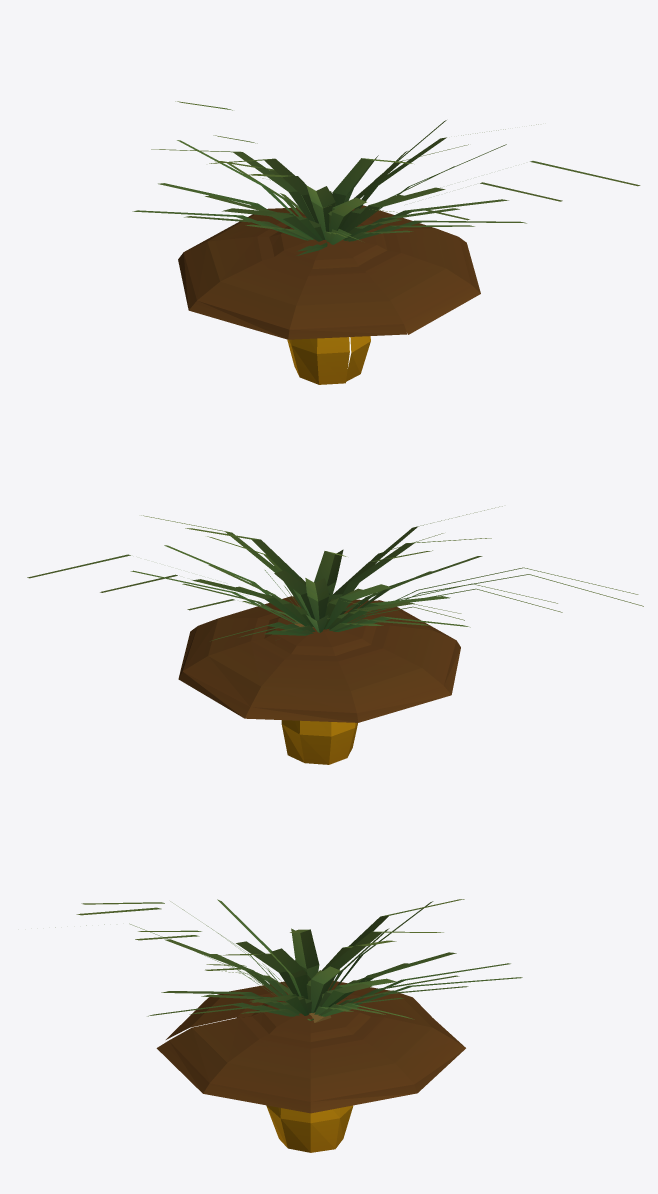
File: pineapple.glb
3 views of the same model, one above another, from view 1: azimuth 30°, elevation 25°; view 2: azimuth 150°, elevation 25°; view 3: azimuth 270°, elevation 25° (orthographic). The views are drawn at different scales.
Parts seen in each view (by area): view 1: stage2_soil, stage4_leaf, fruit_fruitMatte, stage0_soil, stage4_l1_leaf, stage3_leaf, stage3_l1_leaf, stage2_leaf; view 2: stage2_soil, stage4_leaf, stage4_l1_leaf, fruit_fruitMatte, stage0_soil, stage3_leaf, stage3_l1_leaf, stage2_leaf; view 3: stage2_soil, stage4_leaf, fruit_fruitMatte, stage0_soil, stage4_l1_leaf, stage3_leaf, stage3_l1_leaf, stage2_leaf.
Part boxes in pixels (bbox=[...]): stage2_soil: bbox=[178, 205, 480, 339]; stage4_leaf: bbox=[132, 101, 640, 255]; fruit_fruitMatte: bbox=[287, 336, 370, 384]; stage0_soil: bbox=[269, 224, 387, 268]; stage4_l1_leaf: bbox=[158, 120, 583, 251]; stage3_leaf: bbox=[184, 135, 474, 249]; stage3_l1_leaf: bbox=[205, 151, 562, 247]; stage2_leaf: bbox=[245, 178, 449, 247]; stage2_soil: bbox=[178, 596, 460, 722]; stage4_leaf: bbox=[27, 515, 643, 635]; stage4_l1_leaf: bbox=[29, 506, 638, 641]; fruit_fruitMatte: bbox=[281, 720, 357, 764]; stage0_soil: bbox=[264, 611, 376, 655]; stage3_leaf: bbox=[102, 536, 562, 634]; stage3_l1_leaf: bbox=[100, 533, 557, 637]; stage2_leaf: bbox=[213, 593, 464, 633]; stage2_soil: bbox=[156, 980, 465, 1113]; stage4_leaf: bbox=[55, 899, 522, 1019]; fruit_fruitMatte: bbox=[266, 1105, 353, 1152]; stage0_soil: bbox=[237, 998, 370, 1041]; stage4_l1_leaf: bbox=[81, 899, 510, 1009]; stage3_leaf: bbox=[135, 928, 468, 1016]; stage3_l1_leaf: bbox=[138, 930, 459, 1014]; stage2_leaf: bbox=[205, 968, 403, 1015].
Size of the model in its own units: 1.09 by 0.511 by 1.04.
